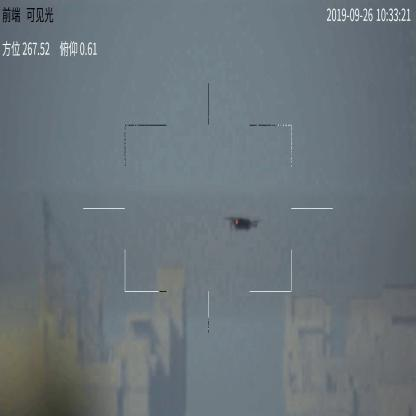uav: (224, 213, 264, 233)
